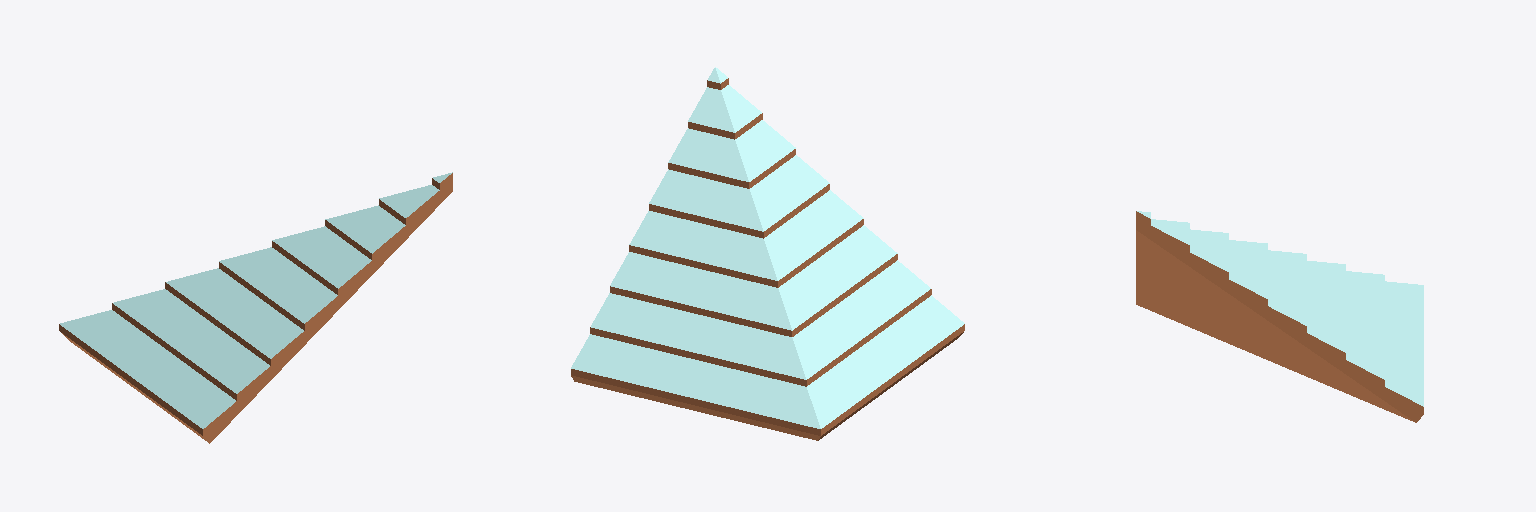
Rendered from cabinRoofCorner.obj.
The picture shows the model from 3 angles: view 1: azimuth 30°, elevation 25°; view 2: azimuth 150°, elevation 25°; view 3: azimuth 270°, elevation 25°; orthographic projection.
Parts seen in each view (by area): view 1: cabinRoofCorner; view 2: cabinRoofCorner; view 3: cabinRoofCorner.
Boxes of the visible parts, x1,y1,x2,y2 form: cabinRoofCorner: [59, 172, 452, 443]; cabinRoofCorner: [571, 67, 964, 440]; cabinRoofCorner: [1136, 211, 1423, 422].
Bounding box in the file's own units: 1.12 × 0.9046 × 1.12.